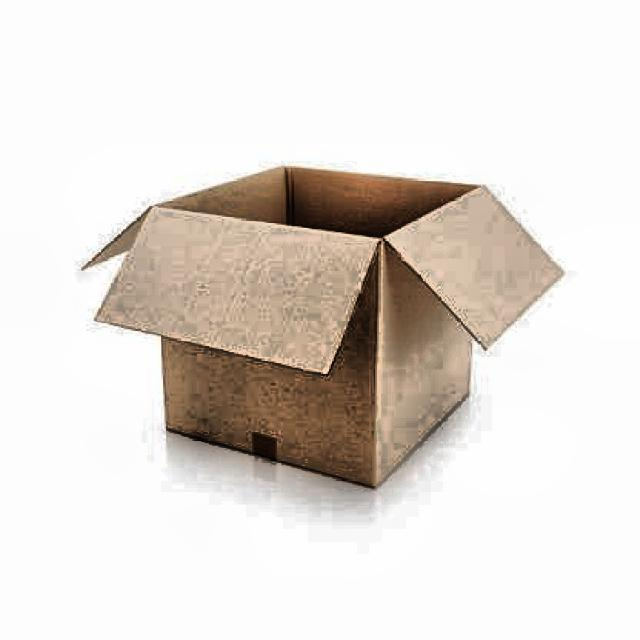Cardbox: (72, 134, 562, 511)
